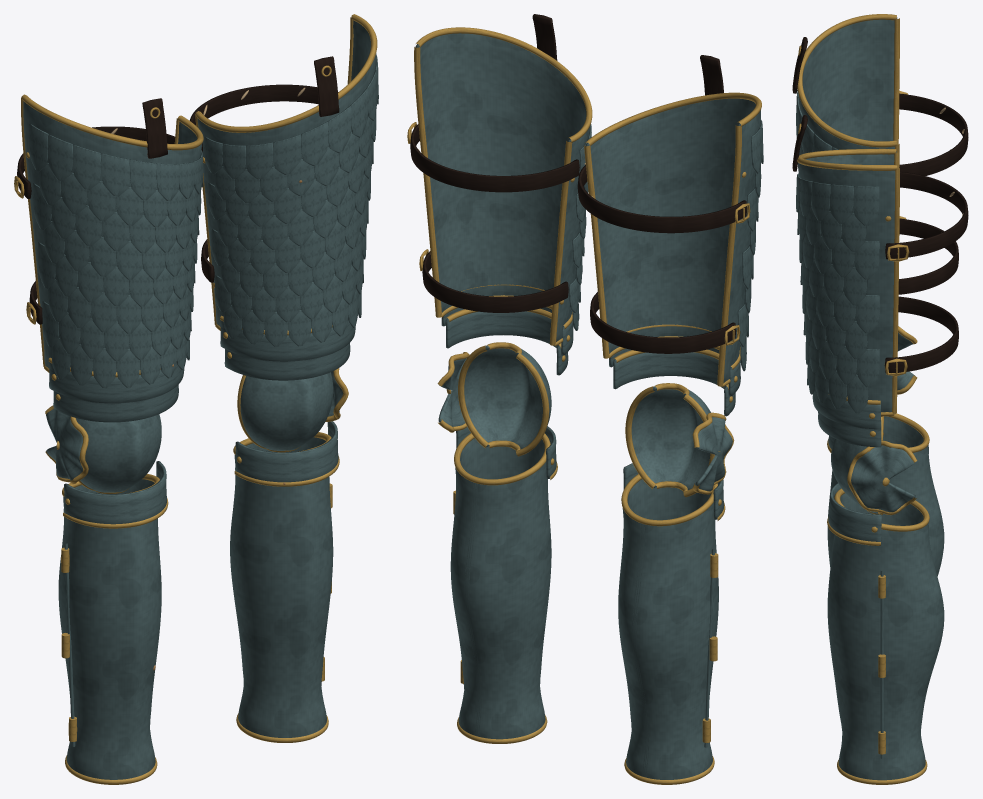
3 renders of one model, left to right at view 1: azimuth 30°, elevation 25°; view 2: azimuth 150°, elevation 25°; view 3: azimuth 270°, elevation 25°, orthographic. The views are drawn at different scales.
Parts seen in each view (by area): view 1: blued scale plate, gilded alloy, oiled strap leather; view 2: blued scale plate, gilded alloy, oiled strap leather; view 3: blued scale plate, gilded alloy, oiled strap leather.
Part boxes in pixels (x1=…): blued scale plate: x1=23, y1=20, x2=378, y2=779; gilded alloy: x1=14, y1=14, x2=377, y2=784; oiled strap leather: x1=17, y1=56, x2=339, y2=324; blued scale plate: x1=415, y1=33, x2=763, y2=779; gilded alloy: x1=407, y1=27, x2=761, y2=784; oiled strap leather: x1=410, y1=14, x2=747, y2=353; blued scale plate: x1=796, y1=17, x2=944, y2=780; gilded alloy: x1=797, y1=14, x2=929, y2=784; oiled strap leather: x1=792, y1=37, x2=968, y2=373.
Bounding box in the file's own units: 0.4219 × 0.8149 × 0.2001.
Materials: 5 (3 with a texture image).
